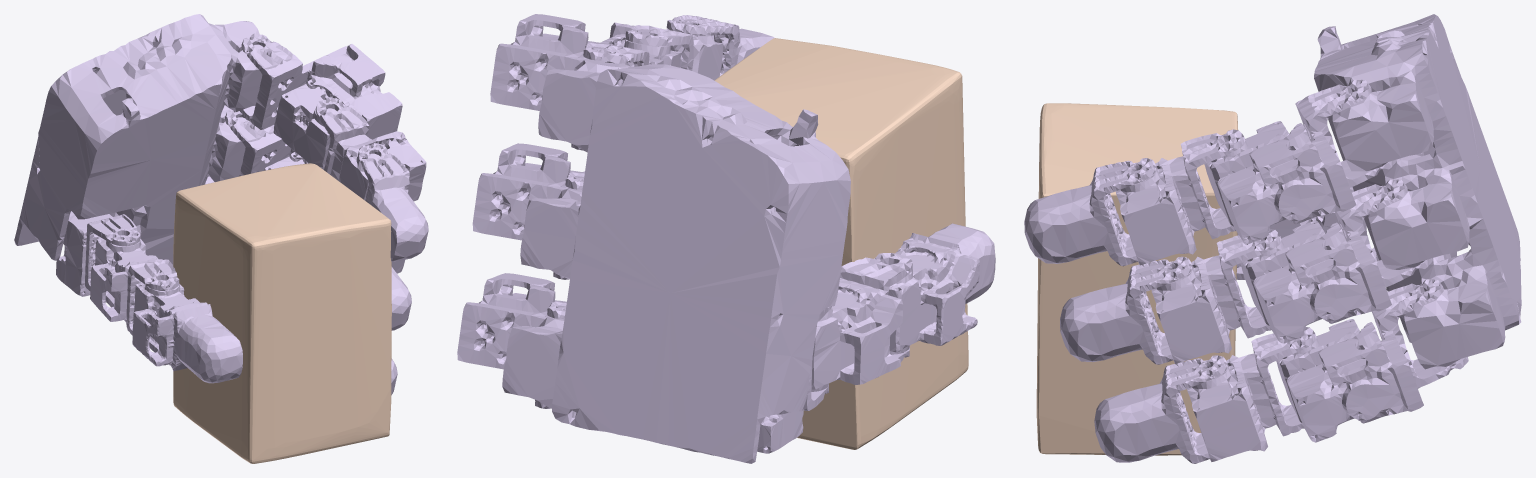
3 views of the same model, side by side, from view 1: azimuth 30°, elevation 25°; view 2: azimuth 150°, elevation 25°; view 3: azimuth 270°, elevation 25° (orthographic). The views are drawn at different scales.
Visible parts, largest first — view 1: LEAP_hand, world; view 2: LEAP_hand, world; view 3: LEAP_hand, world.
Part boxes in pixels (<box>): LEAP_hand: <box>14,14,428,395</box>; world: <box>173,163,391,463</box>; LEAP_hand: <box>457,14,995,463</box>; world: <box>714,38,968,449</box>; LEAP_hand: <box>1024,14,1521,463</box>; world: <box>1036,103,1237,455</box>.
Size of the model in its own units: 0.1529 by 0.1648 by 0.1932.
